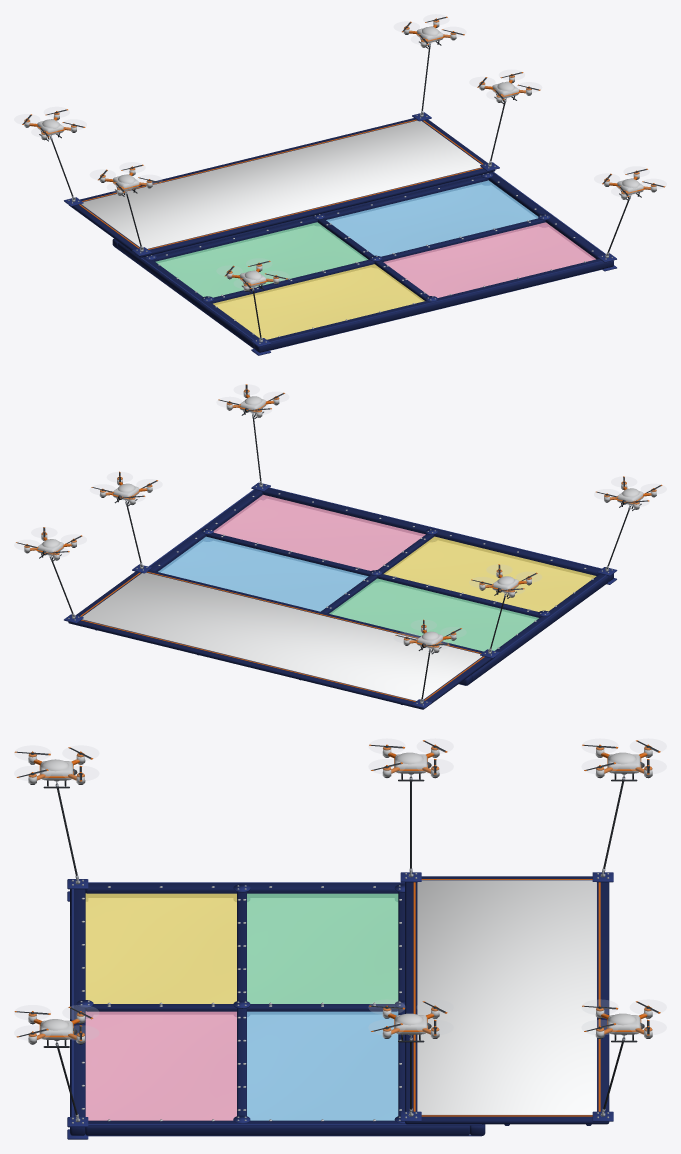
The model's file is gate_board.glb.
The picture shows the model from 3 angles, top to bottom: view 1: azimuth 30°, elevation 25°; view 2: azimuth 150°, elevation 25°; view 3: azimuth 270°, elevation 25°; orthographic projection. The views are drawn at different scales.
Visible parts, largest first — view 1: QuestionSign, Frame, Panel_1, Panel_3, Panel_2, Panel_0, SignFrame, RotorDisc_2, RotorDisc_3, RotorDisc_0, RotorDisc_4, RotorDisc_5 (+7 smaller); view 2: QuestionSign, Frame, Panel_3, Panel_1, Panel_2, Panel_0, SignFrame, RotorDisc_2, RotorDisc_3, RotorDisc_5, RotorDisc_0, RotorDisc_4 (+7 smaller); view 3: QuestionSign, Frame, Panel_0, Panel_2, Panel_3, Panel_1, SignFrame, RotorDisc_4, RotorDisc_1, RotorDisc_5, RotorDisc_0, RotorDisc_2 (+7 smaller).
Part boxes in pixels (<box>): QuestionSign: <box>81,120,481,248</box>; Frame: <box>112,171,616,355</box>; Panel_1: <box>326,180,538,256</box>; Panel_3: <box>383,222,595,297</box>; Panel_2: <box>213,264,424,339</box>; Panel_0: <box>155,222,368,297</box>; SignFrame: <box>64,112,499,257</box>; RotorDisc_2: <box>217,259,288,288</box>; RotorDisc_3: <box>594,167,666,196</box>; RotorDisc_0: <box>90,162,161,192</box>; RotorDisc_4: <box>14,107,86,136</box>; RotorDisc_5: <box>394,14,465,44</box>; QuestionSign: <box>82,572,482,700</box>; Frame: <box>148,482,617,685</box>; Panel_3: <box>213,494,425,570</box>; Panel_1: <box>158,536,368,611</box>; Panel_2: <box>384,536,596,611</box>; Panel_0: <box>329,578,538,651</box>; SignFrame: <box>64,564,499,709</box>; RotorDisc_2: <box>594,477,666,506</box>; RotorDisc_3: <box>217,385,288,414</box>; RotorDisc_5: <box>14,527,86,557</box>; RotorDisc_0: <box>469,565,541,594</box>; RotorDisc_4: <box>394,620,465,649</box>; QuestionSign: <box>417,880,596,1114</box>; Frame: <box>67,878,485,1139</box>; Panel_0: <box>247,893,398,1003</box>; Panel_2: <box>85,893,236,1003</box>; Panel_3: <box>85,1011,236,1120</box>; Panel_1: <box>247,1011,398,1120</box>; SignFrame: <box>400,871,613,1125</box>; RotorDisc_4: <box>582,739,666,773</box>; RotorDisc_1: <box>369,1000,453,1034</box>; RotorDisc_5: <box>582,1000,666,1034</box>; RotorDisc_0: <box>369,739,453,773</box>; RotorDisc_2: <box>14,746,98,780</box>.
Size of the model in its own units: 20.65 by 4.31 by 19.18.
